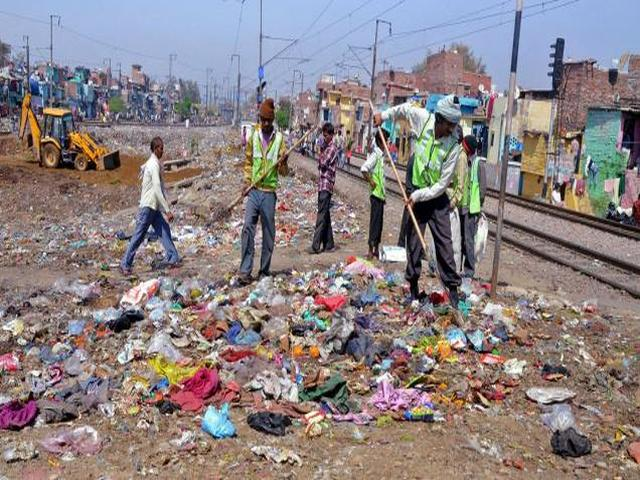garbage: (50, 289, 506, 411)
